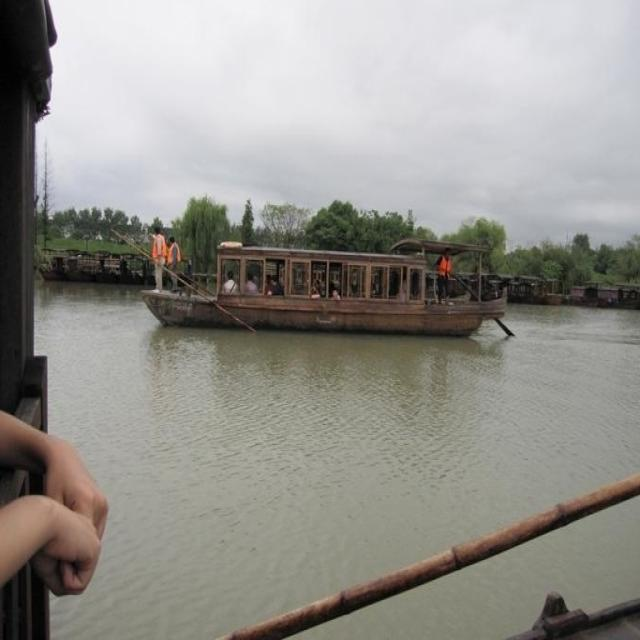boat: (143, 239, 519, 340)
